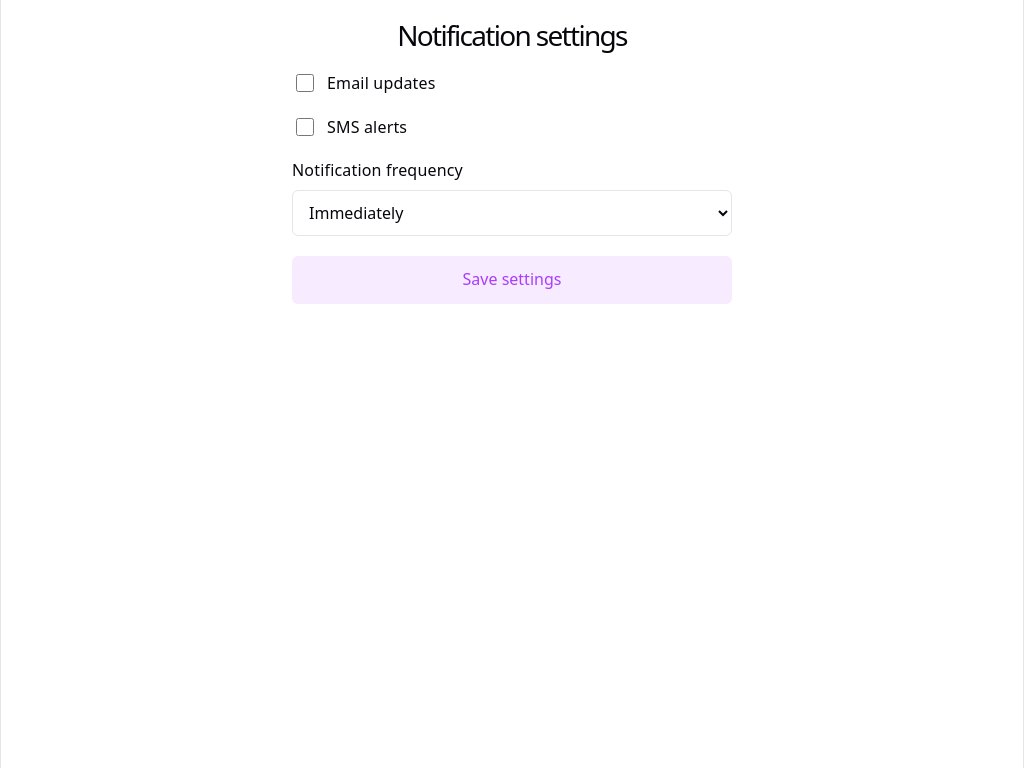
Scenario: NotificationSettings › shows a confirmation message after a valid submission
Click the checkbox labelled "Email updates" at (305, 83), box [296,74,314,92]
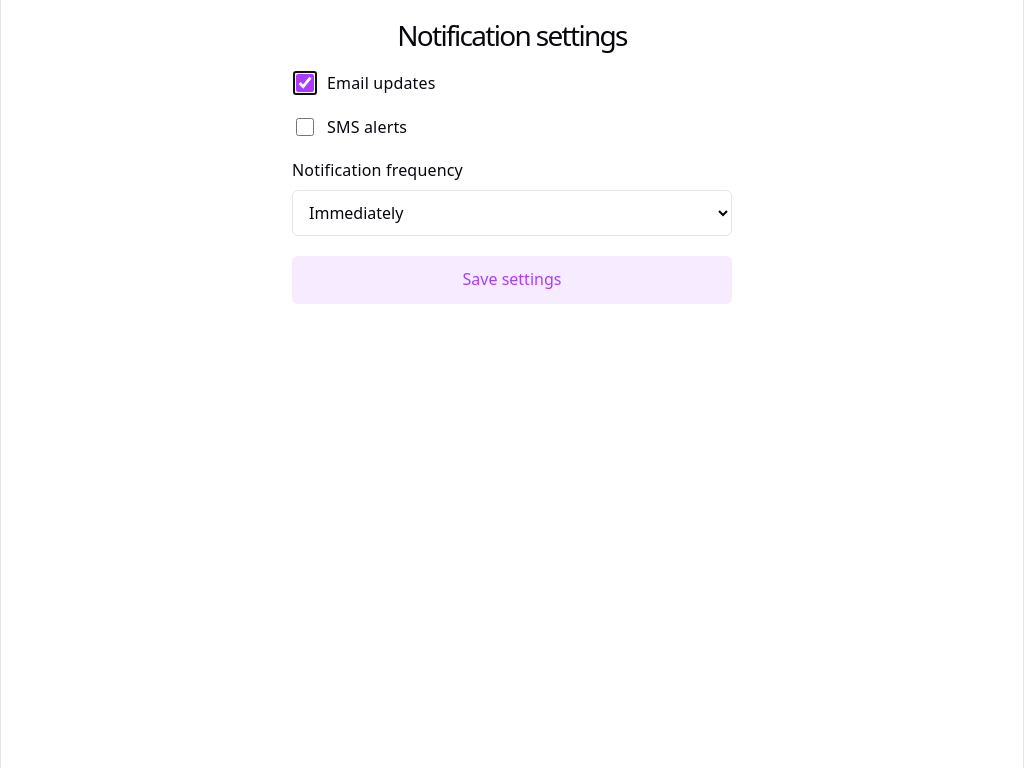
Click the button "Save settings" at (512, 280), box [292,256,732,304]
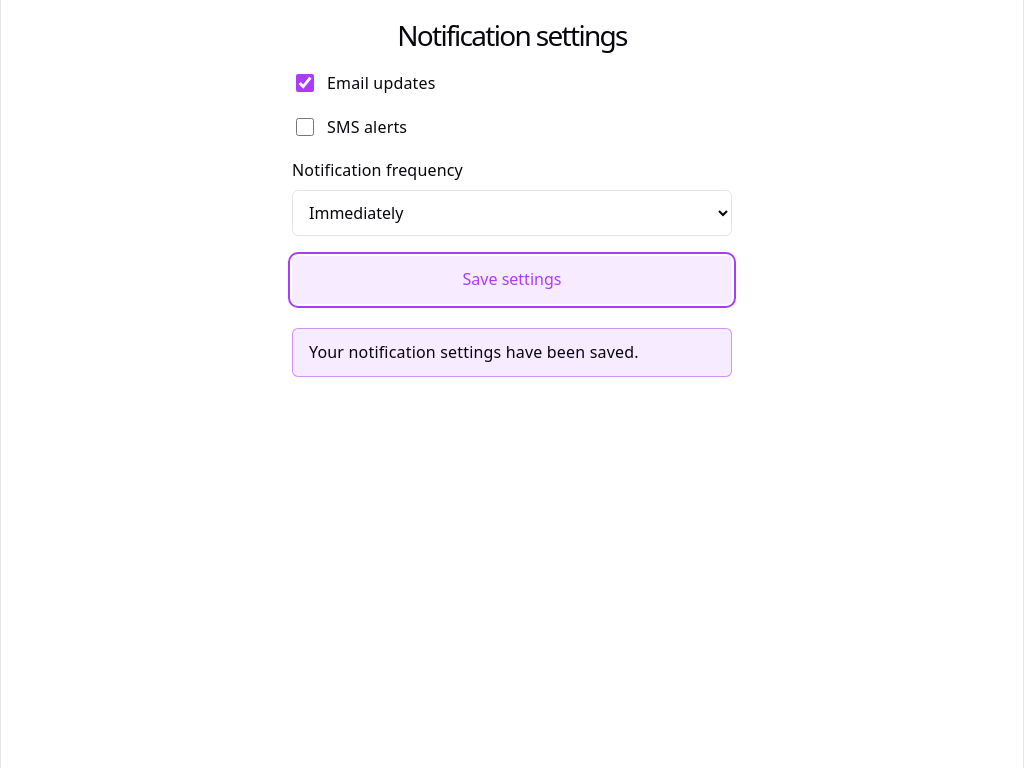
Result: the text "Your notification settings have been saved." is shown at [292,328,732,377]
